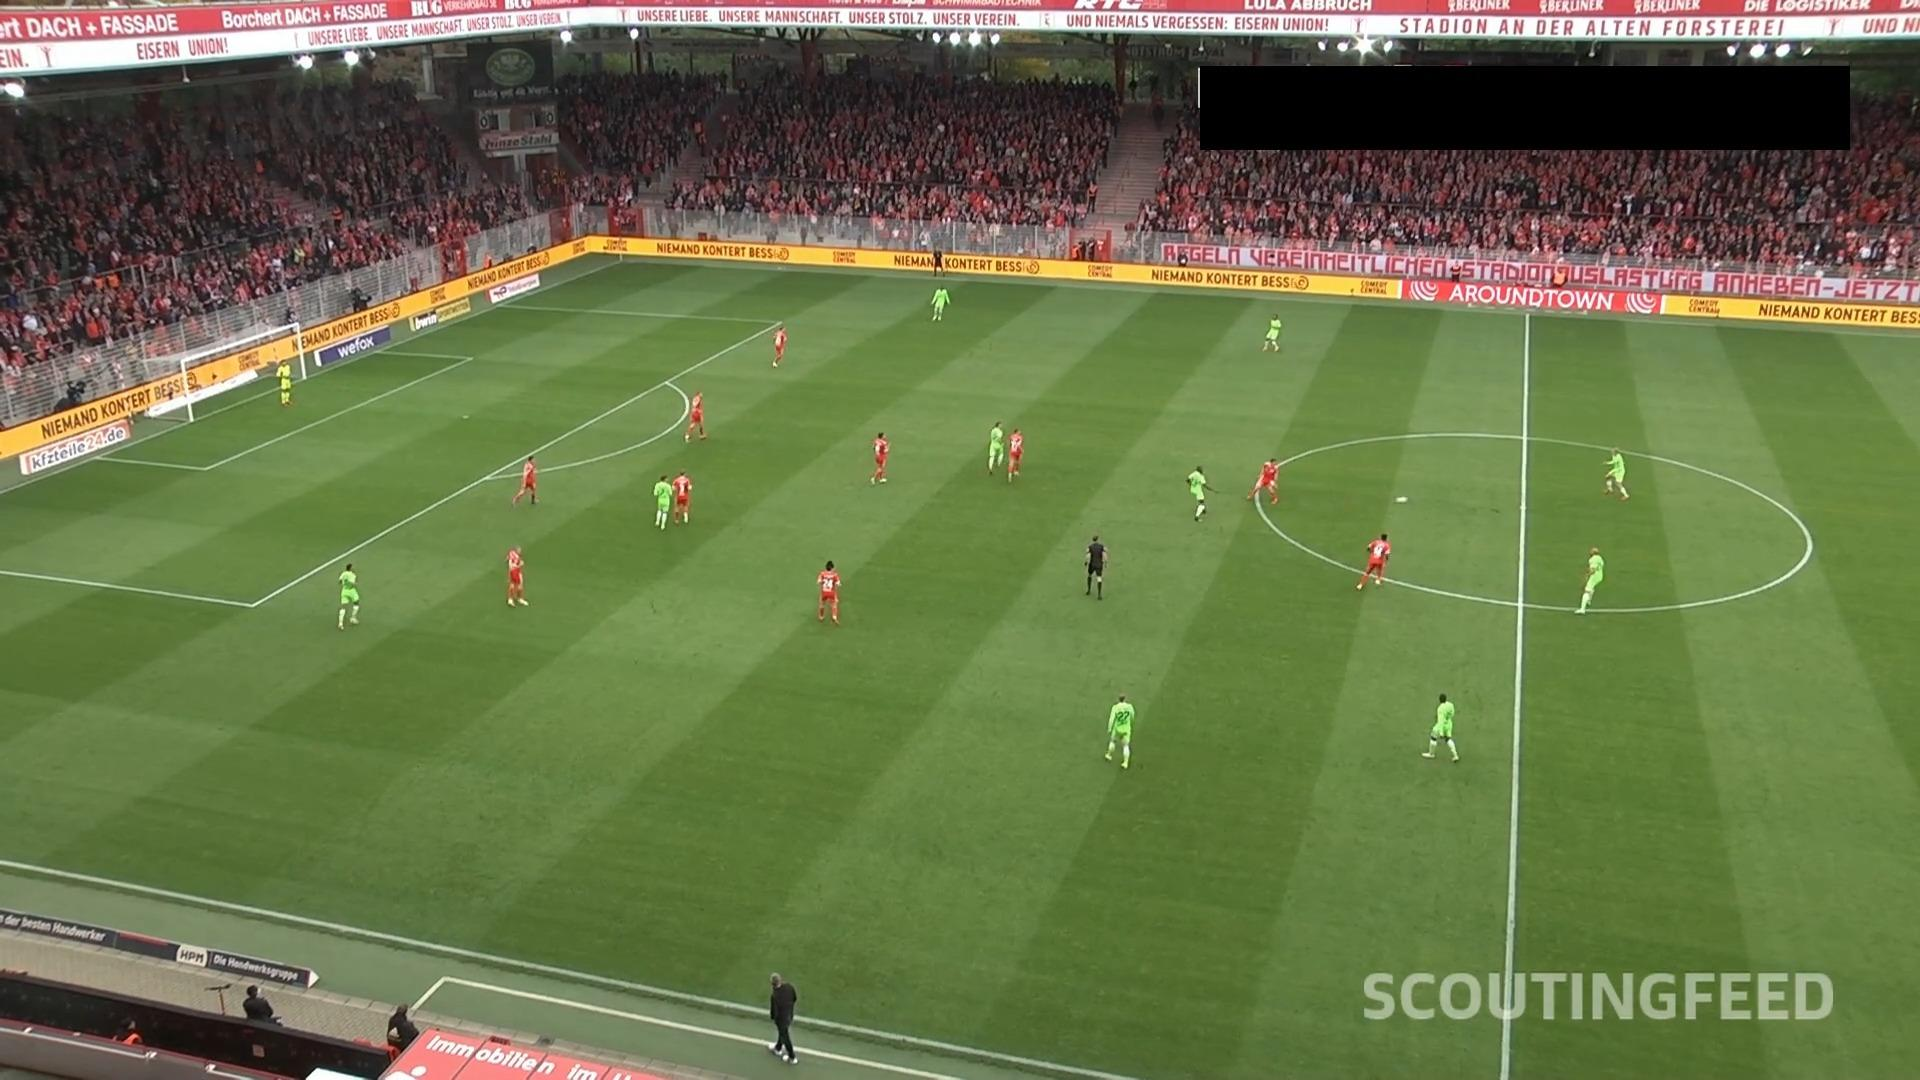ball: (1393, 495, 1408, 506)
